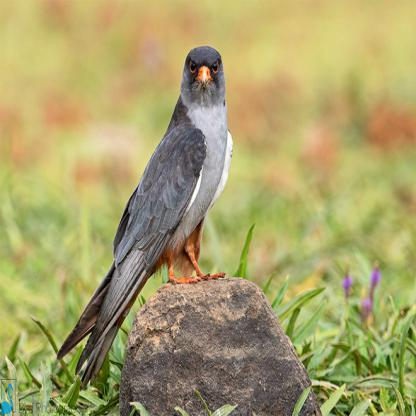Burung: (53, 44, 235, 383)
